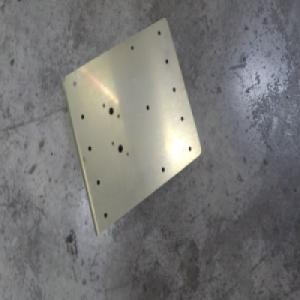MetalSheet: (61, 13, 202, 238)
